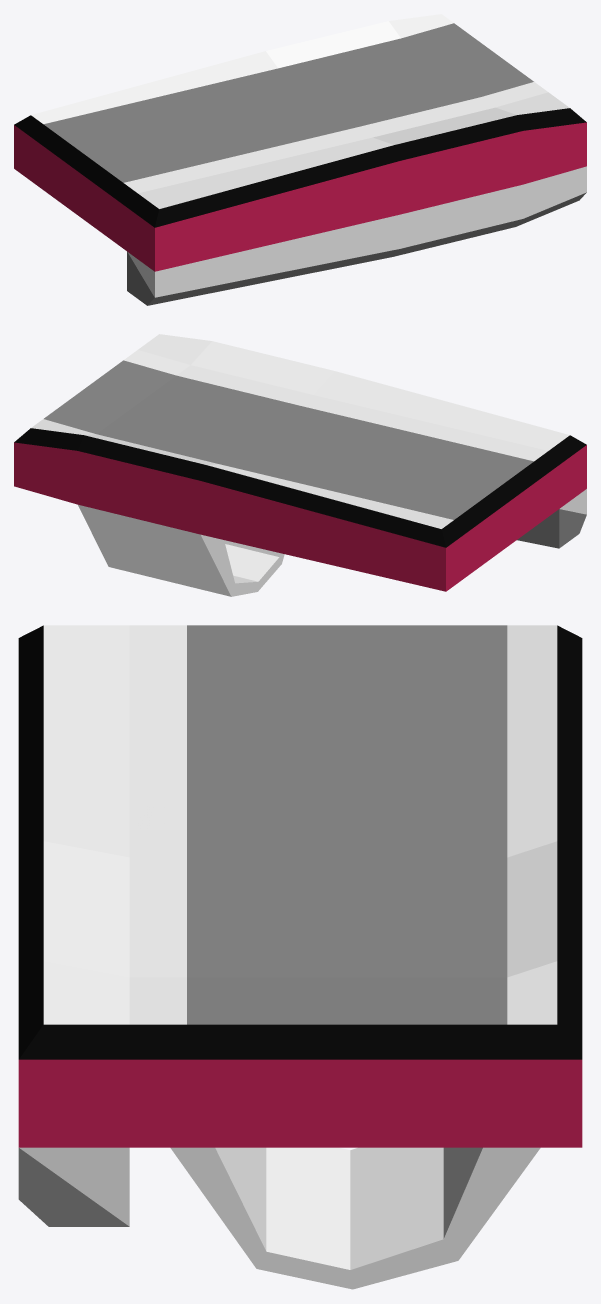
The model's file is Goalkeeper_2_Blocker.fbx.
3 views of the same model, one above another, from view 1: azimuth 30°, elevation 25°; view 2: azimuth 150°, elevation 25°; view 3: azimuth 270°, elevation 25° (orthographic). The views are drawn at different scales.
Visible parts, largest first — view 1: Goalkeeper_2_Blocker; view 2: Goalkeeper_2_Blocker; view 3: Goalkeeper_2_Blocker.
Boxes of the visible parts, <box> form: Goalkeeper_2_Blocker: <box>14,14,586,305</box>; Goalkeeper_2_Blocker: <box>14,334,586,596</box>; Goalkeeper_2_Blocker: <box>18,625,582,1289</box>.
Size of the model in its own units: 51.97 by 18.87 by 29.34.
